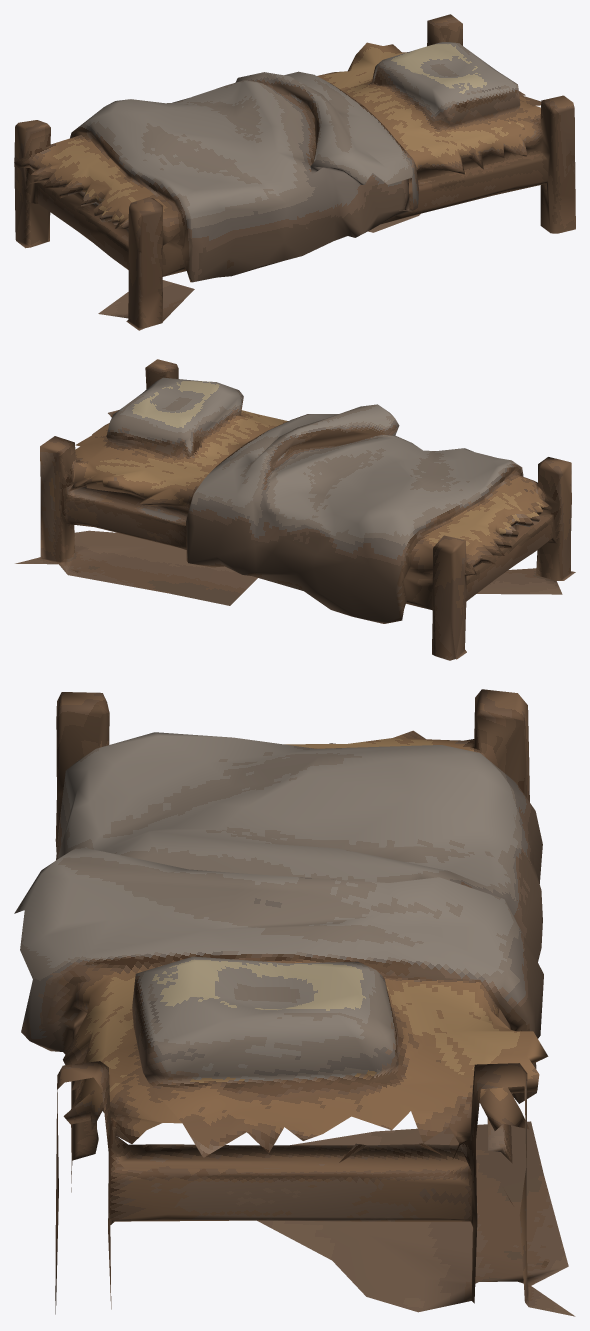
File: catre.glb
The picture shows the model from 3 angles, top to bottom: view 1: azimuth 30°, elevation 25°; view 2: azimuth 150°, elevation 25°; view 3: azimuth 270°, elevation 25°; orthographic projection. The views are drawn at different scales.
Visible parts, largest first — view 1: tripo_node_192cb28c-3be4-4e5e-aad6-1c78089dc3f1; view 2: tripo_node_192cb28c-3be4-4e5e-aad6-1c78089dc3f1; view 3: tripo_node_192cb28c-3be4-4e5e-aad6-1c78089dc3f1.
Boxes of the visible parts, x1,y1,x2,y2 form: tripo_node_192cb28c-3be4-4e5e-aad6-1c78089dc3f1: [14, 14, 575, 330]; tripo_node_192cb28c-3be4-4e5e-aad6-1c78089dc3f1: [15, 359, 575, 660]; tripo_node_192cb28c-3be4-4e5e-aad6-1c78089dc3f1: [14, 689, 575, 1316].
Size of the model in its own units: 0.6738 by 0.2005 by 0.3759.
1 material, 1 textured.
